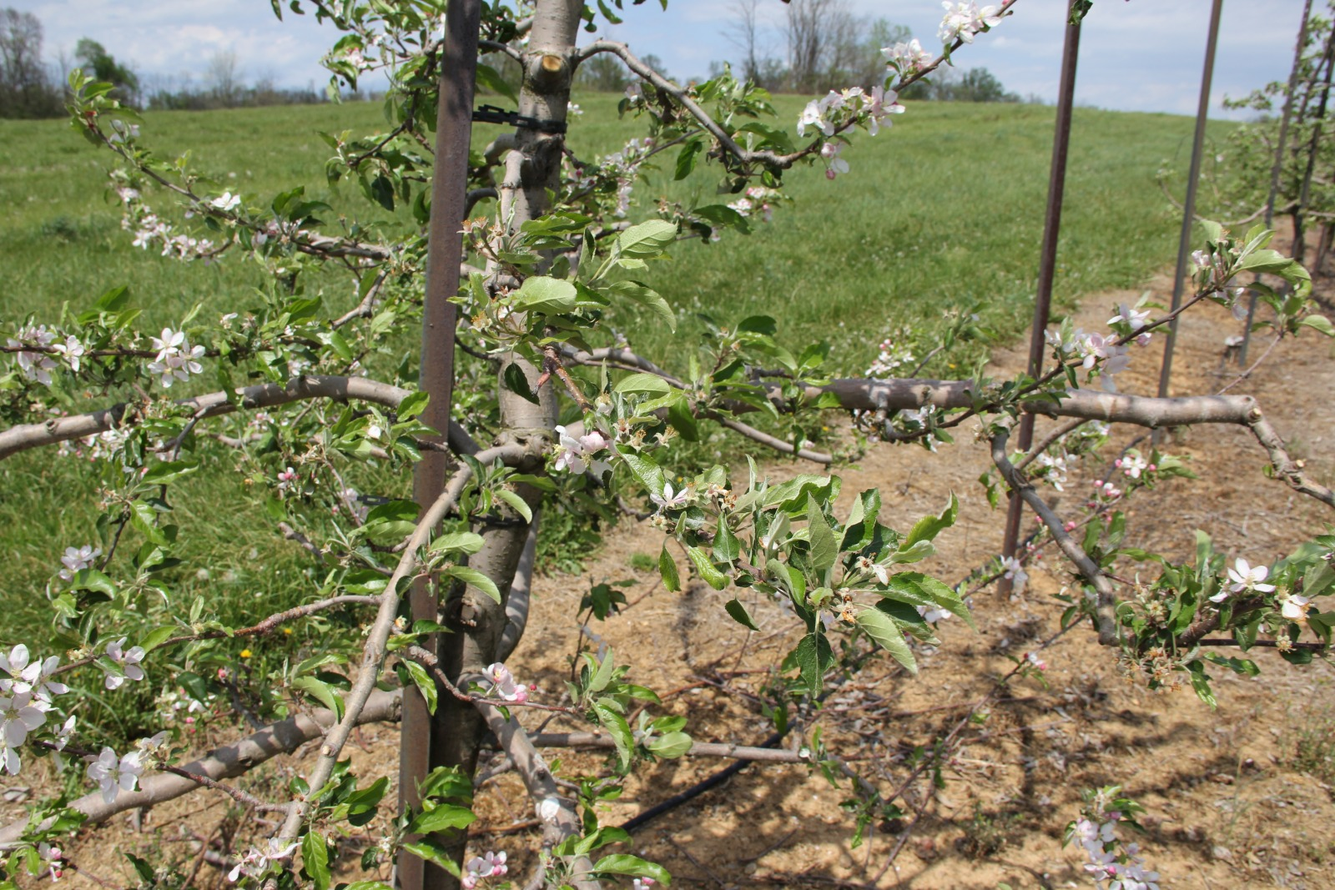flower: (0, 644, 69, 776), (1075, 819, 1161, 890), (92, 731, 167, 803), (798, 85, 899, 138), (148, 321, 206, 389), (1079, 332, 1132, 394), (553, 425, 612, 478), (942, 1, 1002, 45), (462, 851, 508, 890), (482, 662, 526, 701), (1227, 558, 1275, 593), (58, 545, 102, 582), (880, 40, 933, 68), (21, 351, 60, 387), (1106, 304, 1151, 334), (254, 838, 299, 868), (53, 335, 85, 372), (651, 483, 687, 511), (104, 666, 144, 690), (1121, 450, 1151, 480), (107, 641, 145, 664), (25, 324, 58, 348), (1005, 557, 1029, 585), (211, 192, 242, 211), (1050, 466, 1072, 492), (1282, 594, 1304, 618), (922, 606, 952, 623), (229, 864, 248, 882), (821, 143, 843, 158), (1232, 304, 1249, 321), (1210, 586, 1228, 601), (837, 159, 849, 173), (1150, 473, 1156, 480)
